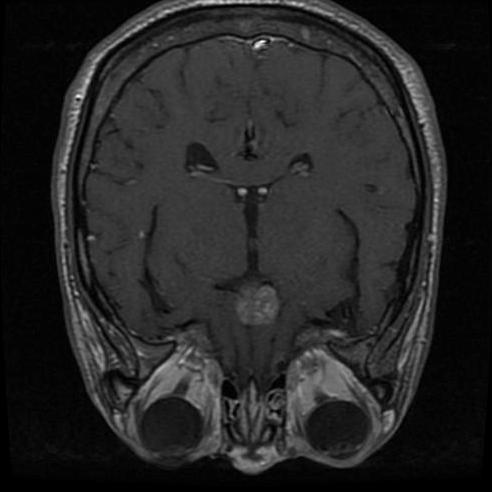Tumour-Pituitary: (232, 282, 283, 327)
